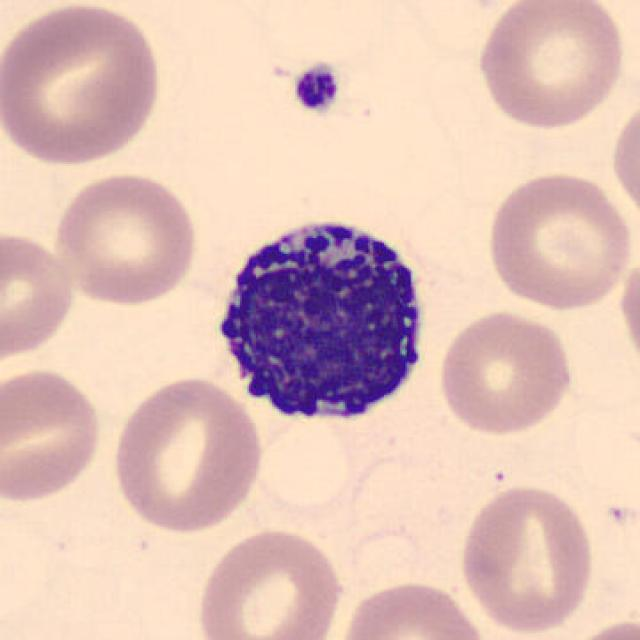basophil: (219, 208, 424, 426)
platelets: (285, 56, 344, 119)
rbc: (110, 367, 268, 537), (1, 8, 164, 170), (49, 164, 197, 310), (480, 164, 629, 304), (473, 0, 621, 139), (460, 476, 597, 626), (443, 303, 578, 442), (202, 524, 342, 640), (0, 365, 103, 509), (0, 232, 82, 366), (346, 563, 482, 640), (609, 108, 640, 203), (579, 604, 638, 640), (618, 264, 640, 350)
